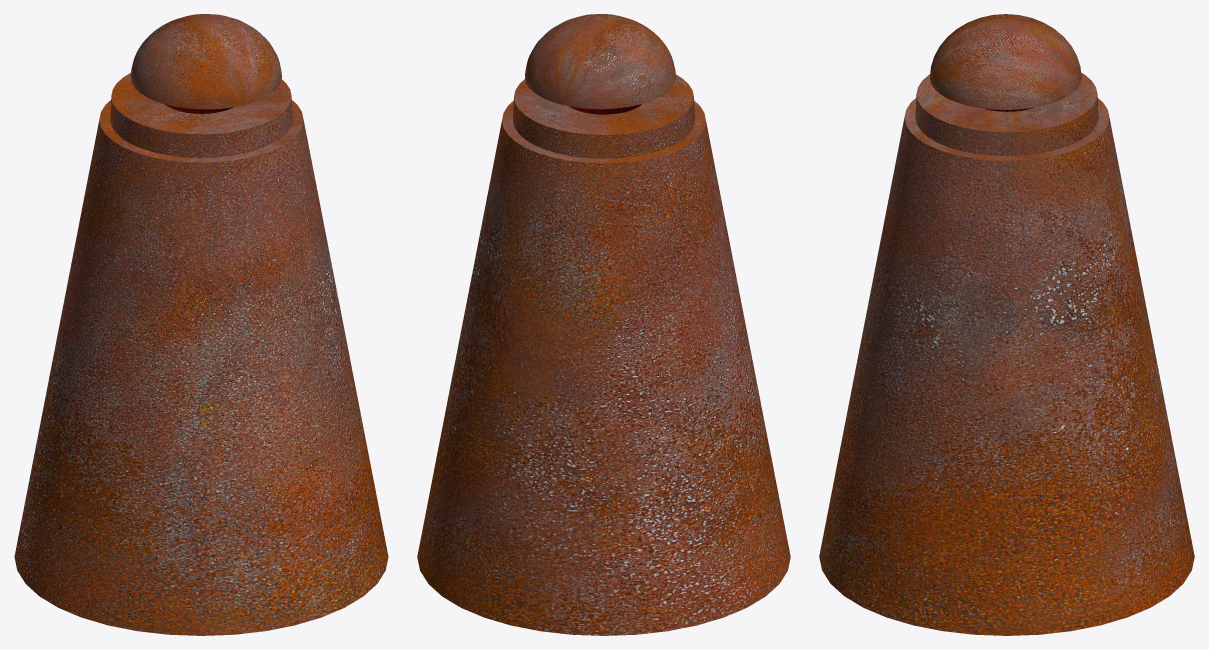
The model's file is tower.gltf.
The picture shows the model from 3 angles, left to right: view 1: azimuth 30°, elevation 25°; view 2: azimuth 150°, elevation 25°; view 3: azimuth 270°, elevation 25°; orthographic projection.
Size of the model in its own units: 9.21 by 14.51 by 9.21.
4 materials, 4 textured.
